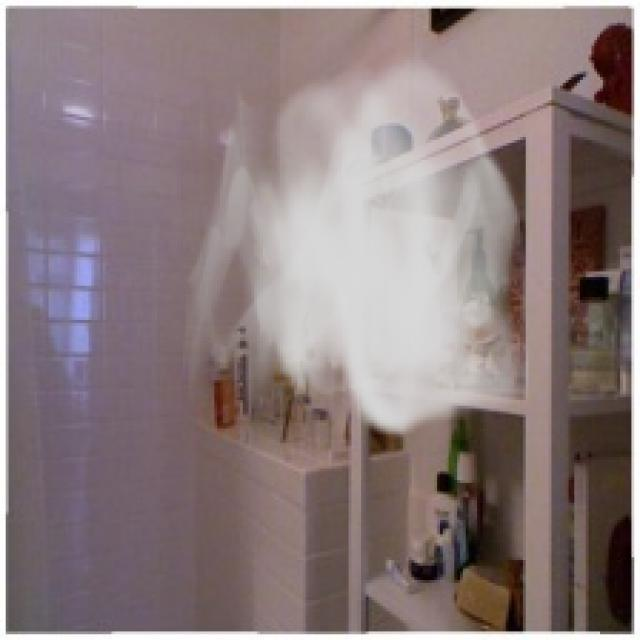Smoke: (180, 46, 540, 440)
